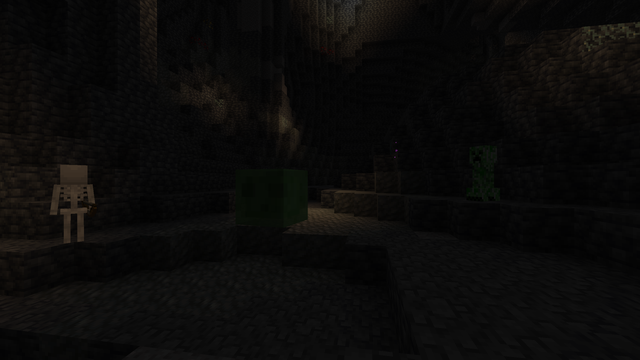creepers: (468, 142, 498, 200)
slimes: (235, 166, 305, 227)
squelettes: (50, 165, 94, 245)
